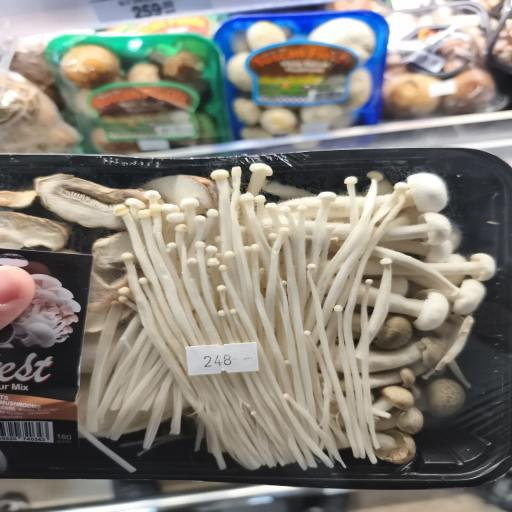Enoki Mushroom: (94, 150, 422, 476)
